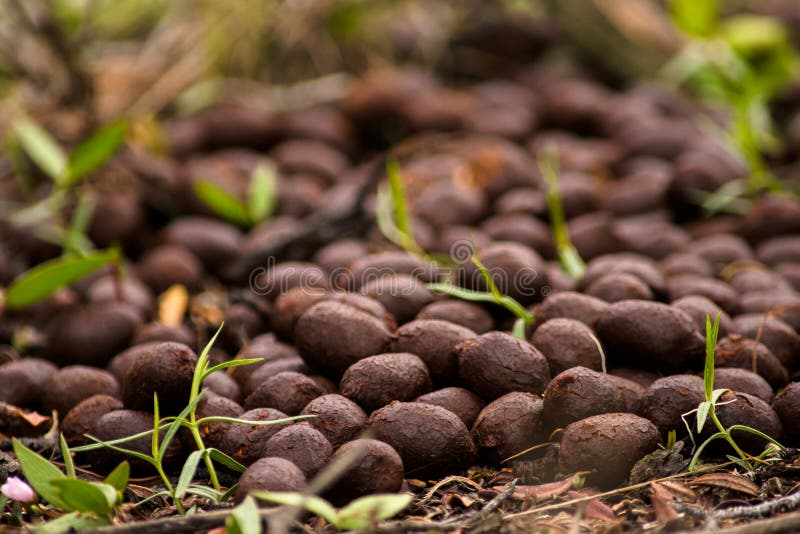Elk: (74, 132, 799, 447)
